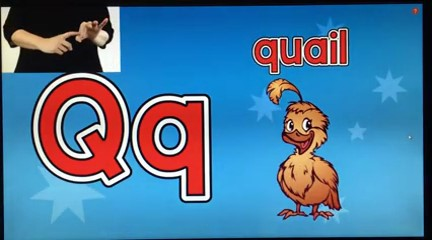Q: (38, 13, 114, 58)
